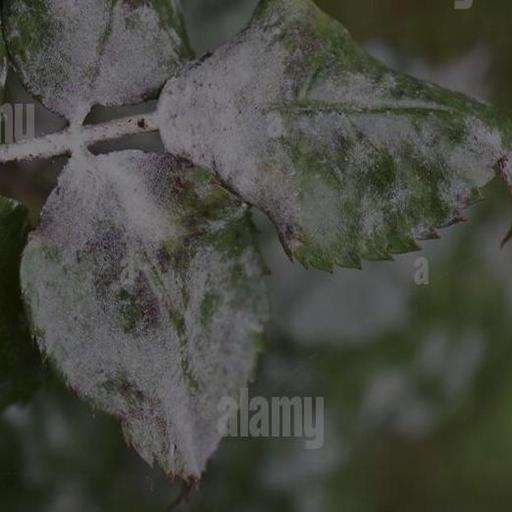powdery_mildew: (158, 0, 512, 270), (20, 150, 267, 480), (0, 0, 192, 125)
